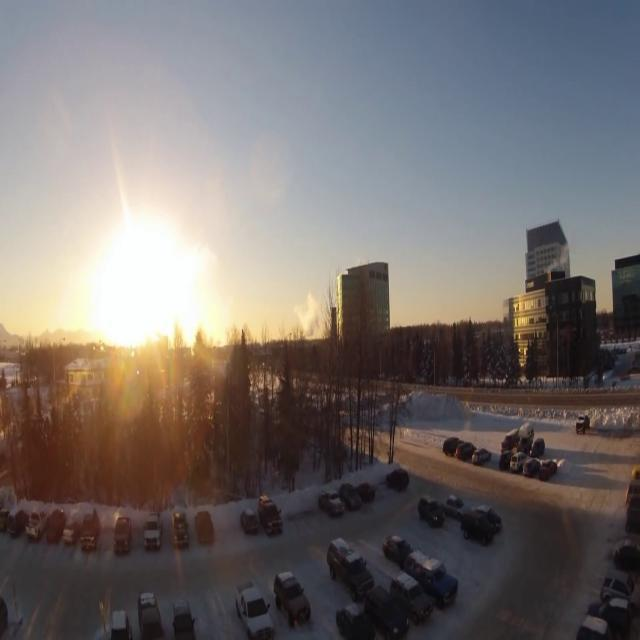Fire: (542, 244, 572, 270)
